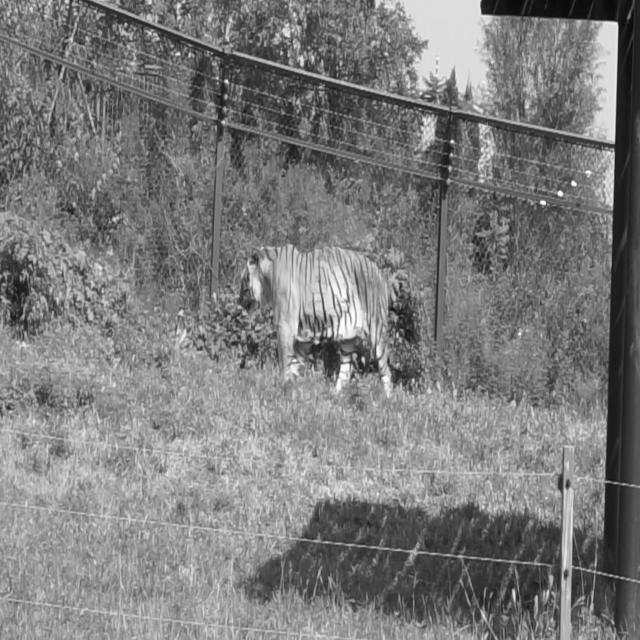Tiger: (238, 242, 394, 399)
